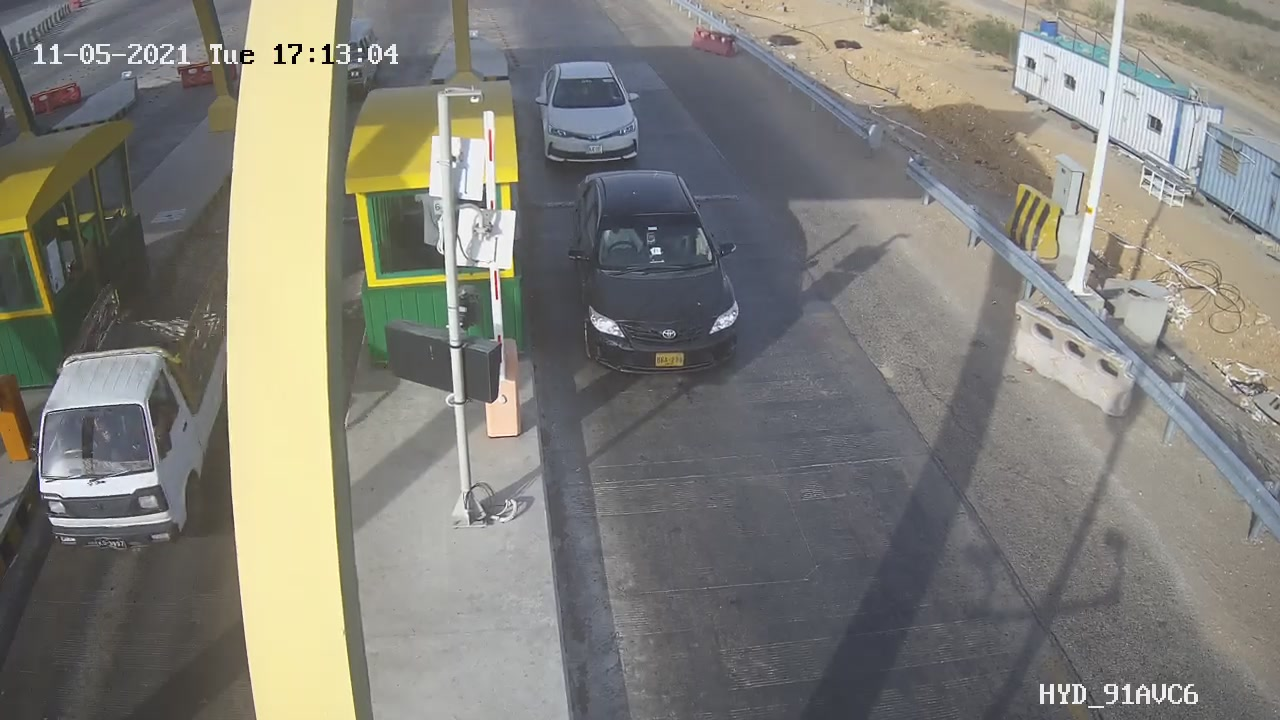F1: (553, 153, 763, 403), (521, 44, 660, 179)
